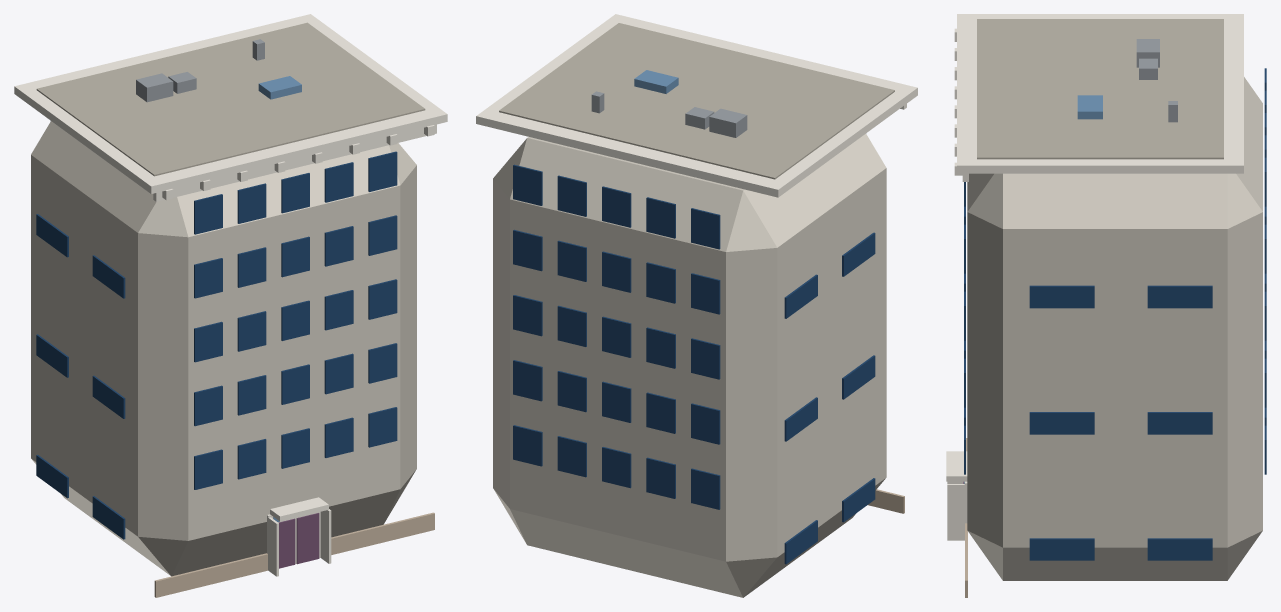
File: apt_w16_f6_punched.glb
3 renders of one model, left to right at view 1: azimuth 30°, elevation 25°; view 2: azimuth 150°, elevation 25°; view 3: azimuth 270°, elevation 25°, orthographic. The views are drawn at different scales.
Parts seen in each view (by area): view 1: walls, roofslab, corn, bsmt, frieze, door.001, win.014, win.013, win.023, win.003, win.004, win.011 (+31 smaller); view 2: walls, roofslab, corn, win.037, win.039, win.045, win.046, win.025, win.026, win.028, win.029, win.030 (+25 smaller); view 3: walls, roofslab, corn, sb.009, sb.011, sb.001, sb.003, sb.005, sb.007, cpost.001, skylt, canopy (+1 smaller).
Boxes of the visible parts, x1,y1,x2,y2 form: walls: [31, 121, 416, 576]; roofslab: [36, 22, 425, 176]; corn: [14, 14, 447, 193]; bsmt: [154, 512, 434, 597]; frieze: [153, 124, 436, 201]; door.001: [296, 513, 319, 564]; win.014: [368, 279, 397, 319]; win.013: [324, 290, 353, 330]; win.023: [324, 162, 353, 202]; win.003: [324, 417, 353, 457]; win.004: [368, 407, 397, 447]; win.011: [237, 311, 266, 351]; walls: [493, 134, 886, 597]; roofslab: [499, 23, 894, 179]; corn: [476, 14, 917, 197]; win.037: [602, 316, 631, 357]; win.039: [513, 295, 542, 336]; win.045: [691, 208, 720, 249]; win.046: [646, 197, 675, 238]; win.025: [691, 468, 720, 509]; win.026: [646, 457, 675, 498]; win.028: [557, 436, 586, 477]; win.029: [513, 425, 542, 466]; win.030: [691, 403, 720, 444]; walls: [967, 77, 1262, 580]; roofslab: [977, 19, 1223, 159]; corn: [957, 14, 1243, 173]; sb.009: [1029, 285, 1094, 308]; sb.011: [1147, 285, 1212, 308]; sb.001: [1029, 538, 1094, 560]; sb.003: [1147, 538, 1212, 560]; sb.005: [1029, 412, 1094, 434]; sb.007: [1147, 412, 1212, 434]; cpost.001: [947, 484, 964, 540]; skylt: [1077, 95, 1102, 119]; canopy: [946, 451, 967, 481].
Bounding box in the file's own units: 17 × 23.8 × 15.17.
